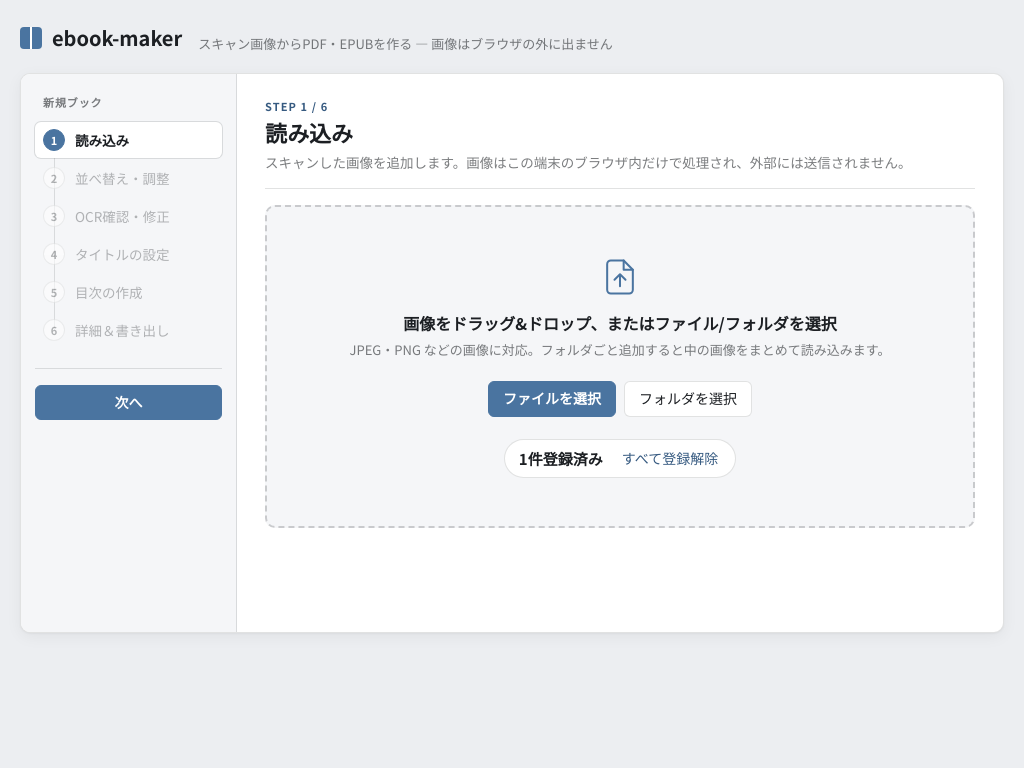
Test: App › advances from the OCR確認・修正 step to タイトルの設定, then 目次の作成, then to 詳細＆書き出し
Click the button "次へ".
click(128, 403)  # box [35, 385, 222, 420]
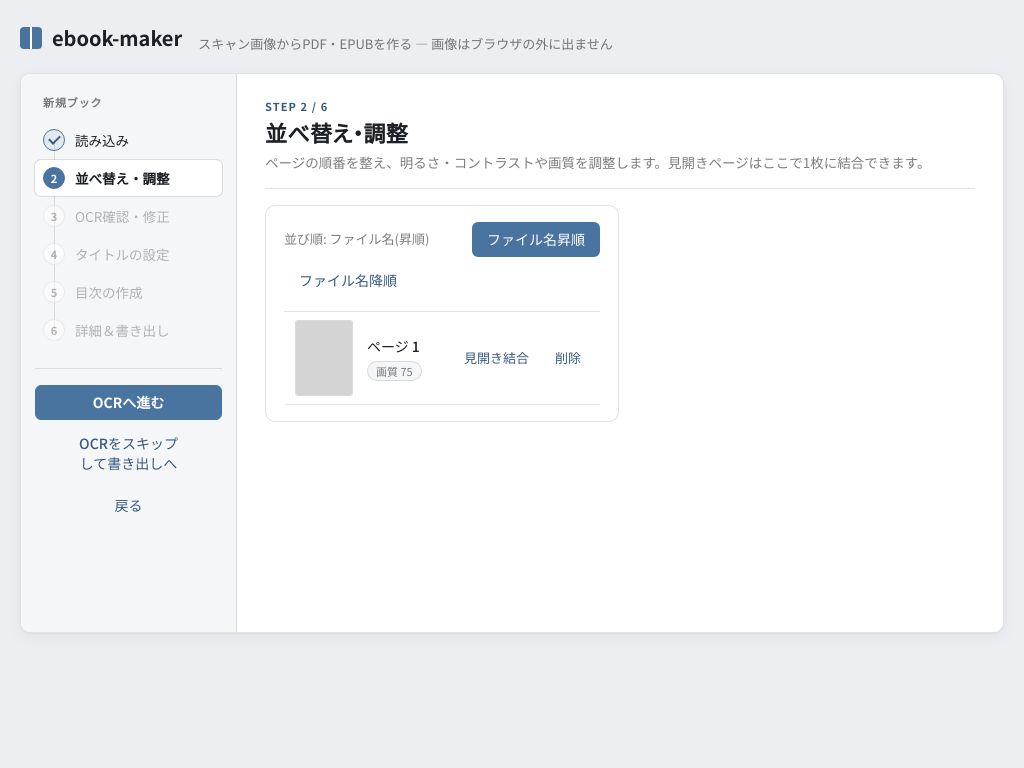
Click the button "OCRへ進む".
click(128, 403)  # box [35, 385, 222, 420]
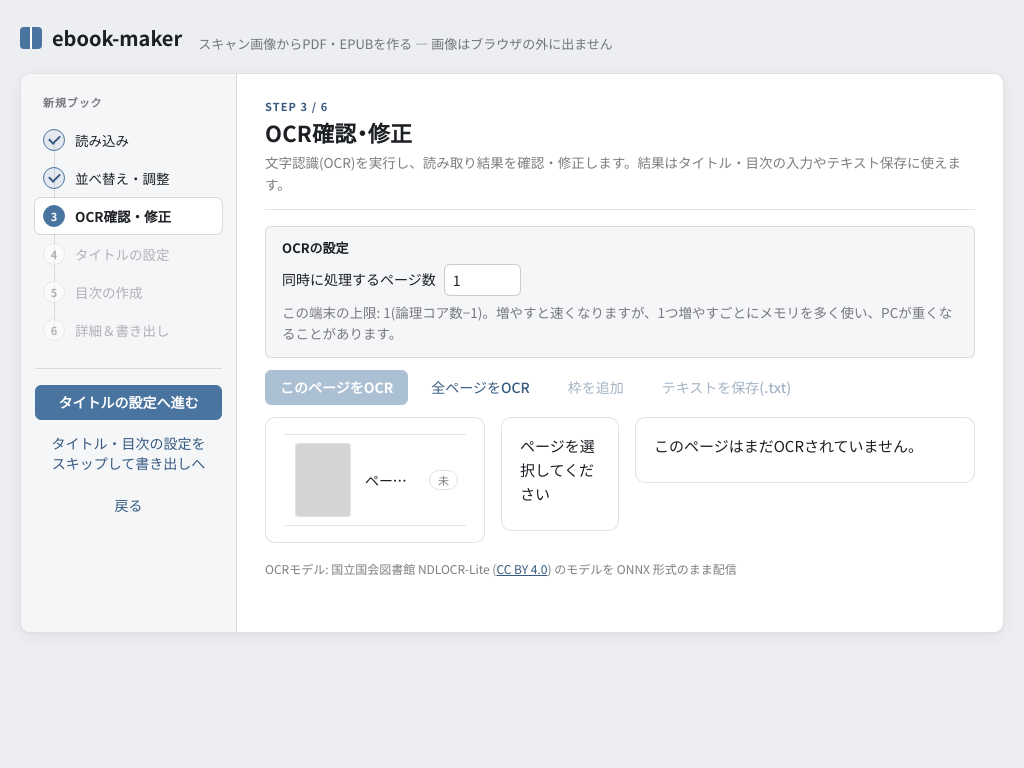
Click the button "タイトルの設定へ進む".
click(128, 403)  # box [35, 385, 222, 420]
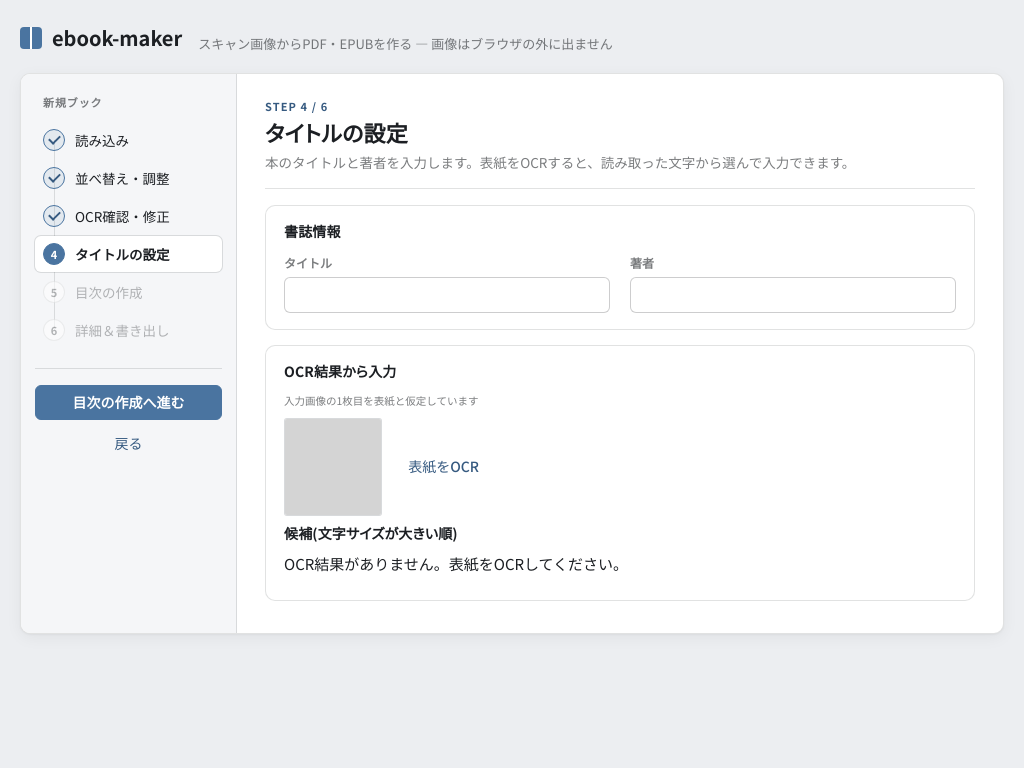
Click the button "目次の作成へ進む".
click(128, 403)  # box [35, 385, 222, 420]
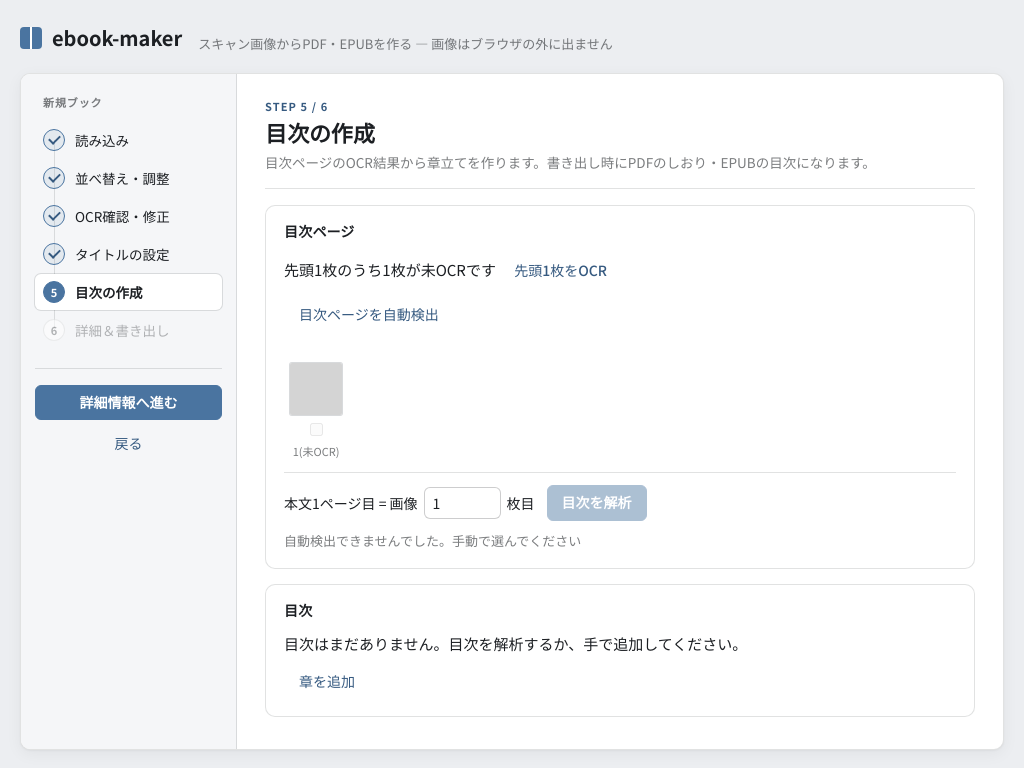
Now the button "章を追加" is shown, box [284, 664, 370, 700]
Click the button "詳細情報へ進む".
click(128, 403)  # box [35, 385, 222, 420]
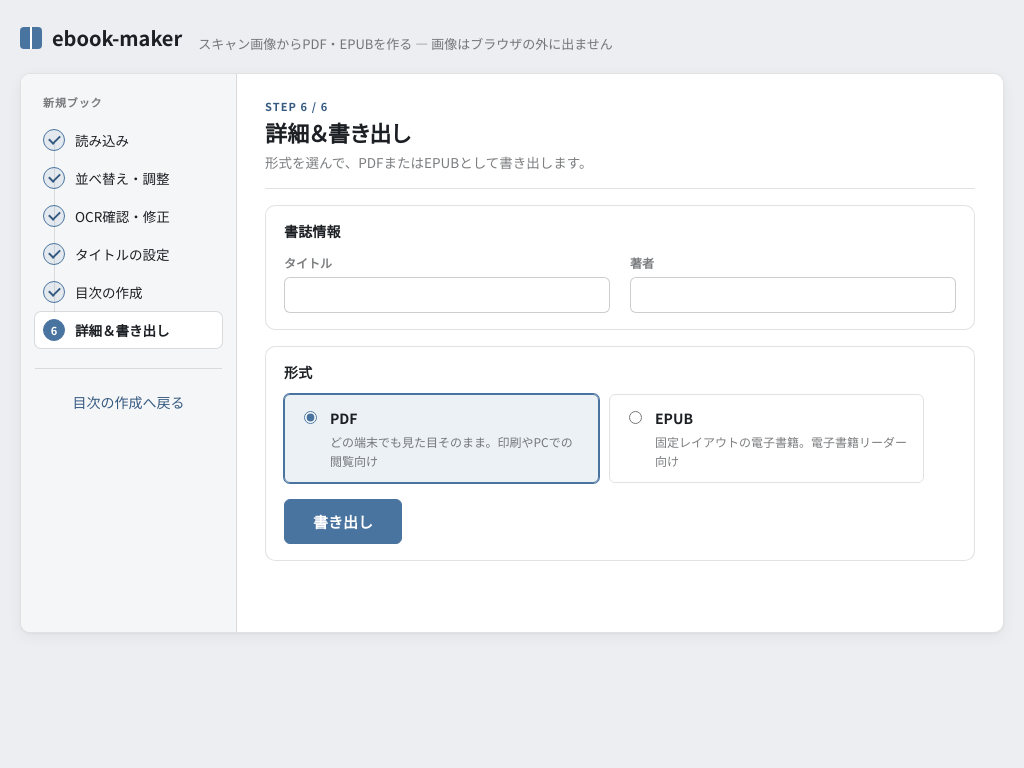
Now the button "書き出し" is shown, box [284, 499, 402, 544]
